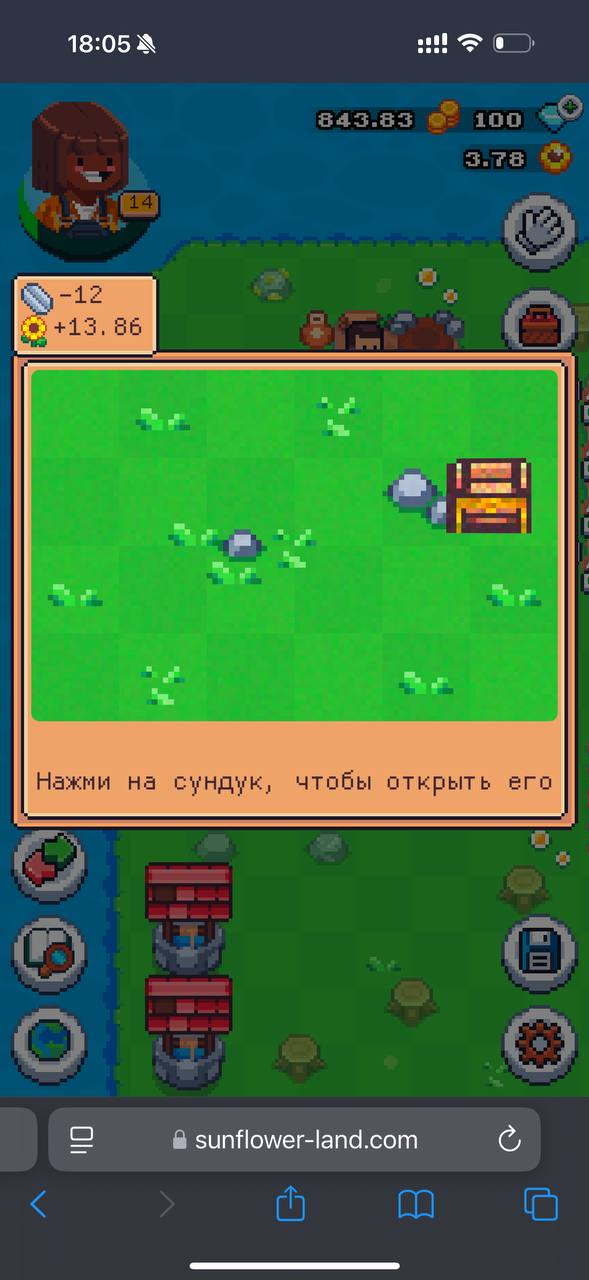capcha_chest: (442, 459, 534, 537)
